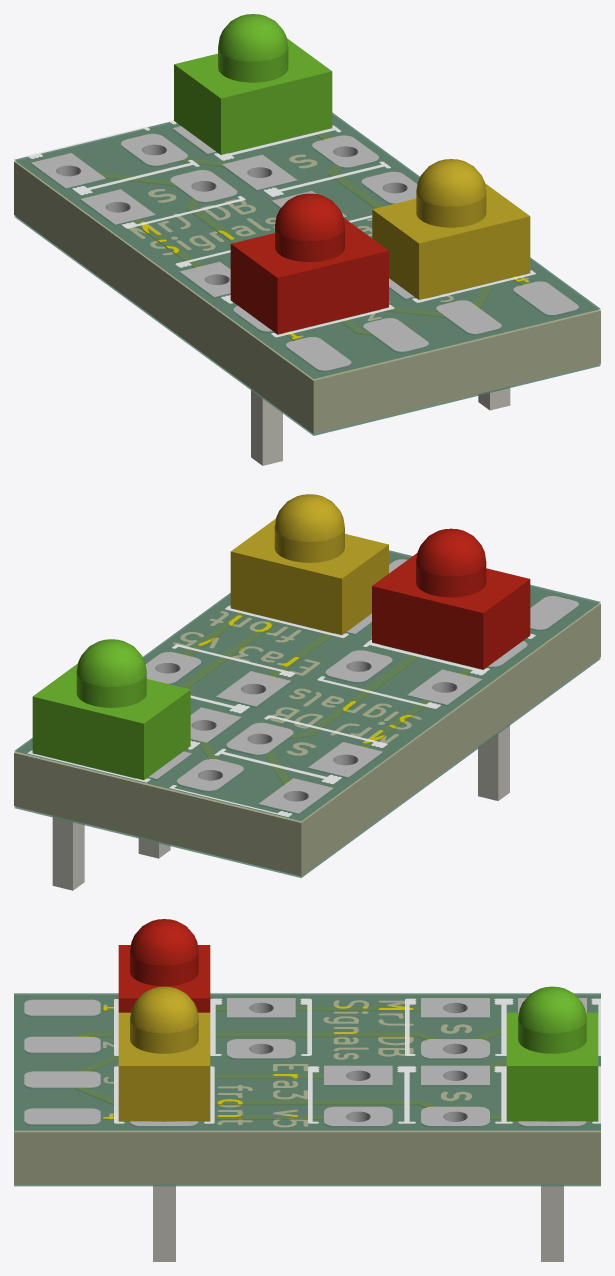
The model's file is MrJ-DB-Era3-prod-entry-off.glb.
The picture shows the model from 3 angles, top to bottom: view 1: azimuth 30°, elevation 25°; view 2: azimuth 150°, elevation 25°; view 3: azimuth 270°, elevation 25°; orthographic projection. The views are drawn at different scales.
Parts seen in each view (by area): view 1: =>[0:1:1:13], =>[0:1:1:11], =>[0:1:1:5], =>[0:1:1:9], =>[0:1:1:3], =>[0:1:1:7], =>[0:1:1:10], =>[0:1:1:8], =>[0:1:1:12]; view 2: =>[0:1:1:13], =>[0:1:1:11], =>[0:1:1:7], =>[0:1:1:5], =>[0:1:1:3], =>[0:1:1:9], =>[0:1:1:8], =>[0:1:1:10], =>[0:1:1:12]; view 3: =>[0:1:1:13], =>[0:1:1:11], =>[0:1:1:9], =>[0:1:1:3], =>[0:1:1:7], =>[0:1:1:5], =>[0:1:1:8], =>[0:1:1:10], =>[0:1:1:12].
Part boxes in pixels (x1=…): =>[0:1:1:13]: x1=14, y1=115, x2=600, y2=433; =>[0:1:1:11]: x1=14, y1=112, x2=600, y2=378; =>[0:1:1:5]: x1=230, y1=193, x2=388, y2=465; =>[0:1:1:9]: x1=31, y1=126, x2=578, y2=371; =>[0:1:1:3]: x1=372, y1=159, x2=530, y2=410; =>[0:1:1:7]: x1=174, y1=14, x2=332, y2=154; =>[0:1:1:10]: x1=27, y1=120, x2=535, y2=337; =>[0:1:1:8]: x1=98, y1=133, x2=529, y2=340; =>[0:1:1:12]: x1=14, y1=216, x2=600, y2=435; =>[0:1:1:13]: x1=14, y1=552, x2=600, y2=876; =>[0:1:1:11]: x1=14, y1=550, x2=600, y2=821; =>[0:1:1:7]: x1=32, y1=639, x2=190, y2=890; =>[0:1:1:5]: x1=372, y1=528, x2=530, y2=800; =>[0:1:1:3]: x1=230, y1=494, x2=388, y2=634; =>[0:1:1:9]: x1=145, y1=559, x2=578, y2=814; =>[0:1:1:8]: x1=180, y1=613, x2=530, y2=784; =>[0:1:1:10]: x1=27, y1=605, x2=535, y2=816; =>[0:1:1:12]: x1=14, y1=658, x2=600, y2=877; =>[0:1:1:13]: x1=14, y1=995, x2=600, y2=1184; =>[0:1:1:11]: x1=14, y1=993, x2=600, y2=1130; =>[0:1:1:9]: x1=24, y1=998, x2=586, y2=1126; =>[0:1:1:3]: x1=118, y1=986, x2=210, y2=1261; =>[0:1:1:7]: x1=506, y1=986, x2=598, y2=1261; =>[0:1:1:5]: x1=118, y1=919, x2=210, y2=1012; =>[0:1:1:8]: x1=75, y1=1006, x2=505, y2=1119; =>[0:1:1:10]: x1=114, y1=998, x2=600, y2=1123; =>[0:1:1:12]: x1=14, y1=1184, x2=600, y2=1186.
Bounding box in the file's own units: 0.00851 × 0.0071 × 0.0154.
